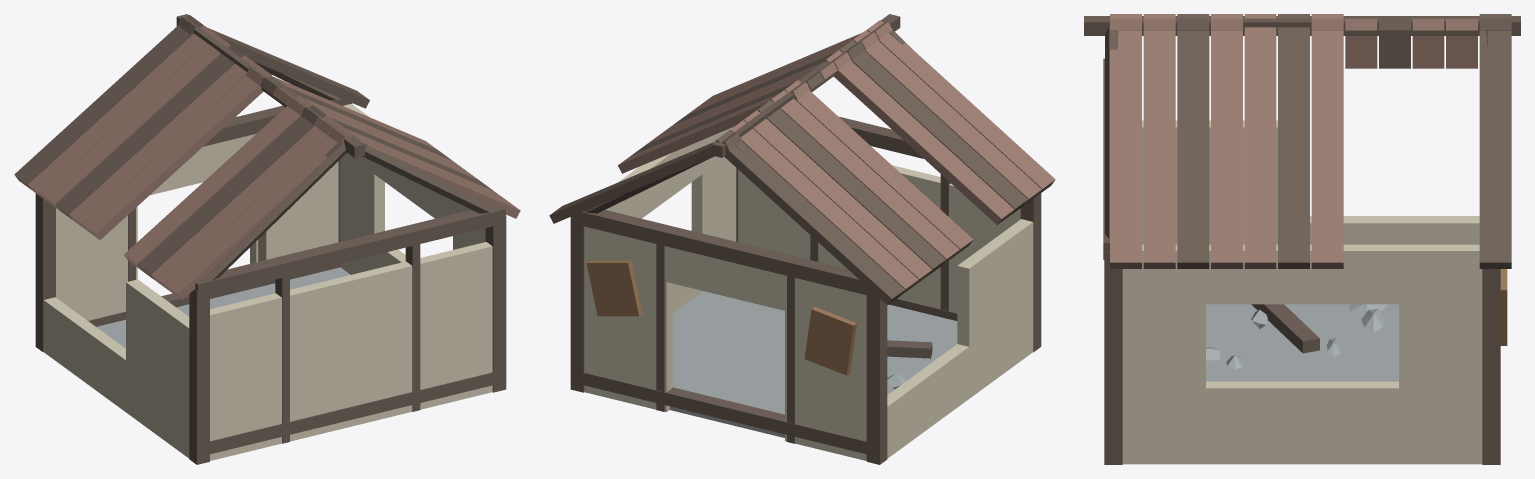
Rendered from house_healer_abandoned.glb.
3 renders of one model, left to right at view 1: azimuth 30°, elevation 25°; view 2: azimuth 150°, elevation 25°; view 3: azimuth 270°, elevation 25°, orthographic. The views are drawn at different scales.
Parts seen in each view (by area): view 1: house_healer_abandoned; view 2: house_healer_abandoned; view 3: house_healer_abandoned.
Boxes of the visible parts, bbox=[...] form: house_healer_abandoned: bbox=[14, 14, 520, 464]; house_healer_abandoned: bbox=[549, 14, 1055, 464]; house_healer_abandoned: bbox=[1084, 14, 1520, 464].
Size of the model in its own units: 5.79 by 4.68 by 5.2.
